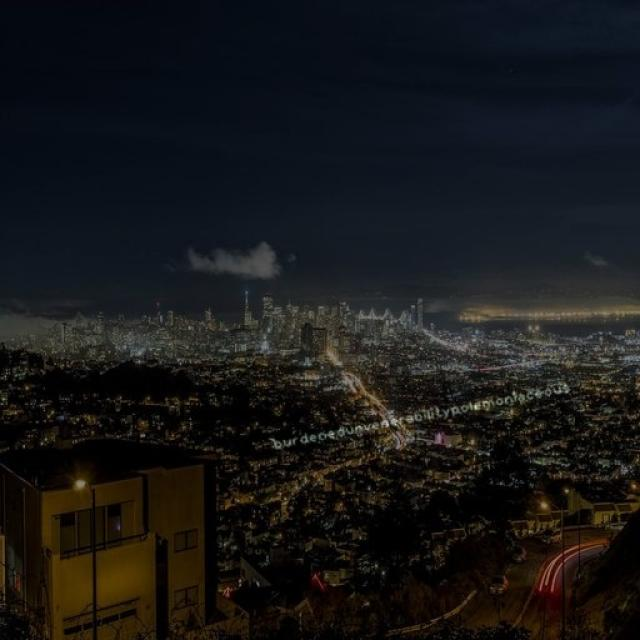watermark: (270, 380, 570, 450)
